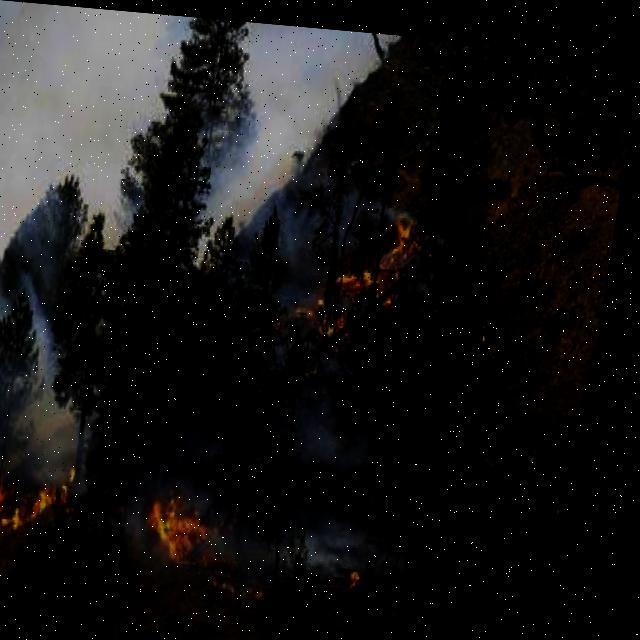Fire: (293, 200, 432, 350), (155, 473, 238, 578), (0, 468, 87, 555)
